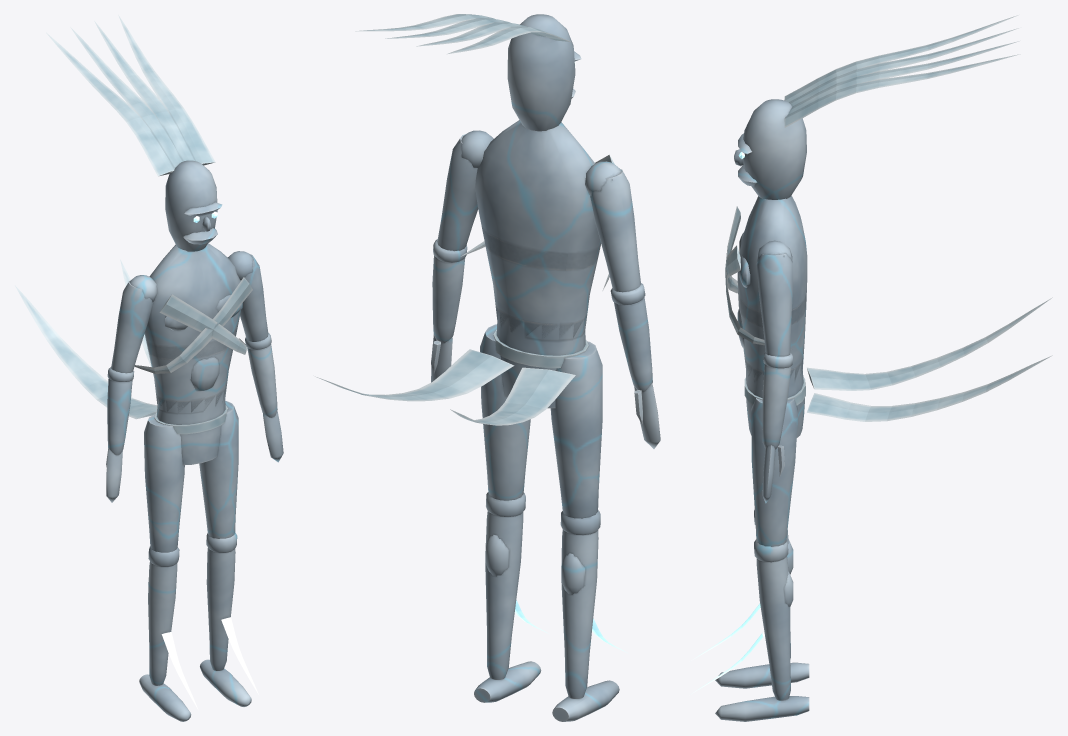
Rendered from underworld-surtling-wind-masculine.glb.
The picture shows the model from 3 angles, left to right: view 1: azimuth 30°, elevation 25°; view 2: azimuth 150°, elevation 25°; view 3: azimuth 270°, elevation 25°; orthographic projection. The views are drawn at different scales.
Visible parts, largest first — view 1: Chest.chest, LeftUpperLeg.thigh, RightUpperLeg.thigh, Head.head, Spine.abdomen, LeftLowerLeg.shin, RightLowerLeg.shin, Hips.pelvis, Hips.sash-0, LeftUpperArm.upper-arm, Head.plume-0, Head.plume-3 (+19 smaller); view 2: Chest.chest, LeftUpperLeg.thigh, Spine.abdomen, Head.head, LeftLowerLeg.shin, RightUpperLeg.thigh, RightLowerLeg.shin, LeftUpperArm.upper-arm, RightUpperArm.upper-arm, Hips.sash-1, Hips.sash-0, Hips.pelvis (+16 smaller); view 3: Head.head, Chest.chest, RightUpperLeg.thigh, RightLowerLeg.shin, RightUpperArm.upper-arm, Hips.sash-0, Hips.sash-1, Spine.abdomen, RightLowerArm.forearm, RightFoot.foot, Head.plume-3, Head.plume-0 (+5 smaller).
Boxes of the visible parts, left/top/right/bottom form: Chest.chest: left=144, top=243, right=240, bottom=360; LeftUpperLeg.thigh: left=144, top=414, right=184, bottom=552; RightUpperLeg.thigh: left=199, top=401, right=238, bottom=538; Head.head: left=165, top=160, right=217, bottom=251; Spine.abdomen: left=148, top=341, right=232, bottom=413; LeftLowerLeg.shin: left=148, top=561, right=177, bottom=685; RightLowerLeg.shin: left=206, top=548, right=235, bottom=670; Hips.pelvis: left=156, top=385, right=226, bottom=465; Hips.sash-0: left=15, top=285, right=157, bottom=419; LeftUpperArm.upper-arm: left=111, top=280, right=153, bottom=373; Head.plume-0: left=46, top=32, right=174, bottom=176; Head.plume-3: left=118, top=15, right=215, bottom=165; Chest.chest: left=475, top=120, right=600, bottom=270; LeftUpperLeg.thigh: left=550, top=341, right=602, bottom=518; Spine.abdomen: left=483, top=229, right=597, bottom=340; Head.head: left=507, top=14, right=575, bottom=131; LeftLowerLeg.shin: left=561, top=529, right=598, bottom=698; RightUpperLeg.thigh: left=480, top=324, right=530, bottom=500; RightLowerLeg.shin: left=485, top=511, right=523, bottom=679; LeftUpperArm.upper-arm: left=590, top=169, right=641, bottom=292; RightUpperArm.upper-arm: left=437, top=134, right=478, bottom=251; Hips.sash-1: left=315, top=349, right=514, bottom=401; Hips.sash-0: left=450, top=367, right=575, bottom=425; Hips.pelvis: left=495, top=304, right=586, bottom=408; Head.head: left=743, top=99, right=806, bottom=199; Chest.chest: left=737, top=195, right=807, bottom=325; RightUpperLeg.thigh: left=751, top=398, right=797, bottom=546; RightLowerLeg.shin: left=756, top=556, right=790, bottom=700; RightUpperArm.upper-arm: left=756, top=253, right=792, bottom=356; Hips.sash-0: left=807, top=297, right=1052, bottom=390; Hips.sash-1: left=807, top=355, right=1052, bottom=421; Spine.abdomen: left=739, top=301, right=806, bottom=381; RightLowerArm.forearm: left=762, top=364, right=791, bottom=449; RightFoot.foot: left=715, top=696, right=809, bottom=721; Head.plume-3: left=784, top=54, right=1020, bottom=127; Head.plume-0: left=784, top=15, right=1018, bottom=102.
Size of the model in its own units: 0.6443 by 2.07 by 1.02.
Materials: 3 (3 with a texture image).
